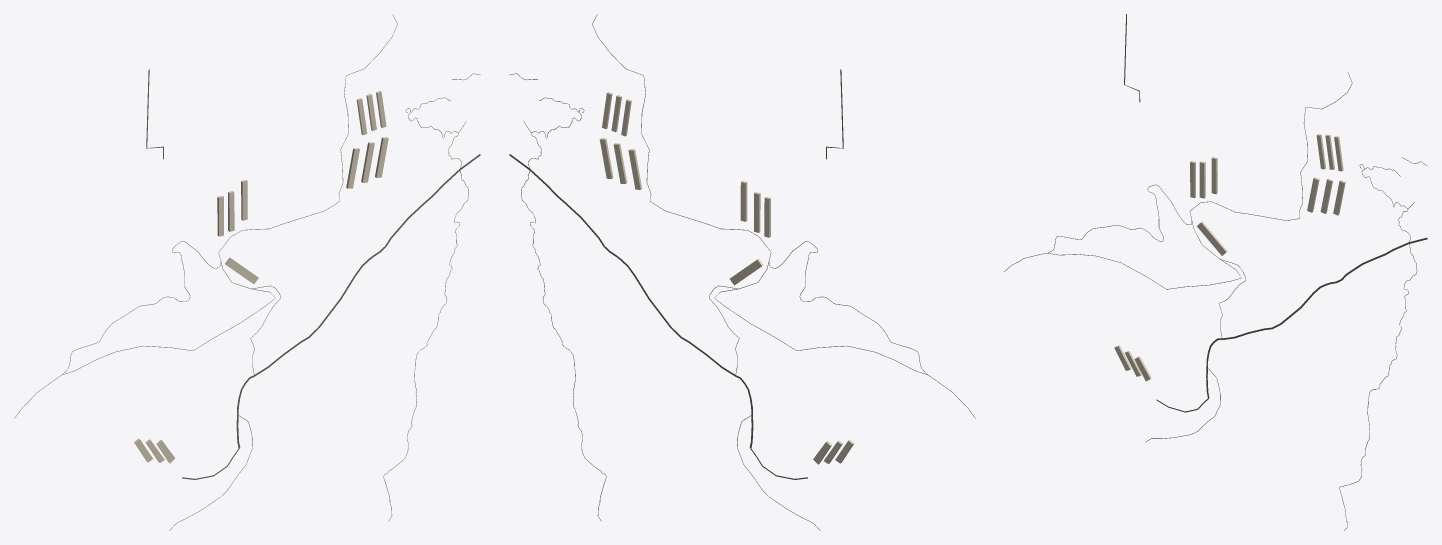
The model's file is historic-palestine-10_36_3522_3305.glb.
The picture shows the model from 3 angles, left to right: view 1: azimuth 30°, elevation 25°; view 2: azimuth 150°, elevation 25°; view 3: azimuth 330°, elevation 25°; orthographic projection. The views are drawn at different scales.
Parts seen in each view (by area): view 1: Road .001, Road; view 2: Road .001, Road; view 3: Road .001, Road.
Part boxes in pixels (x1,y1,x2,y2): Road .001: (236, 154, 480, 447); Road: (14, 14, 397, 418); Road .001: (509, 154, 753, 447); Road: (592, 14, 975, 418); Road .001: (1206, 237, 1427, 398); Road: (1004, 72, 1352, 289).
Bounding box in the file's own units: 1311 × 1371 × 8.7.
